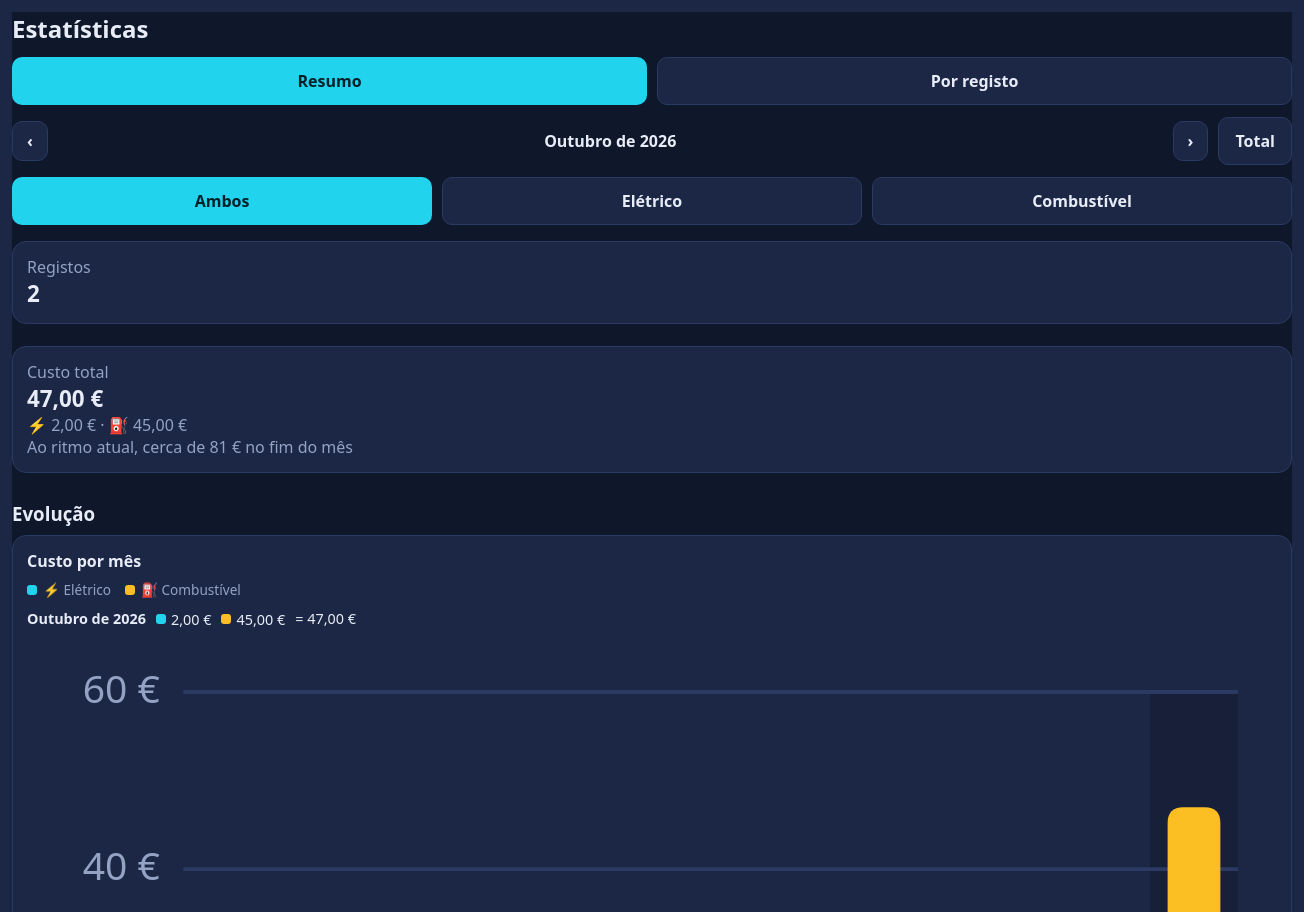
Test: StatsScreen › switches to the fuel-only view for the current period
Click the button "Combustível": [1082, 201] box [872,177,1292,225]
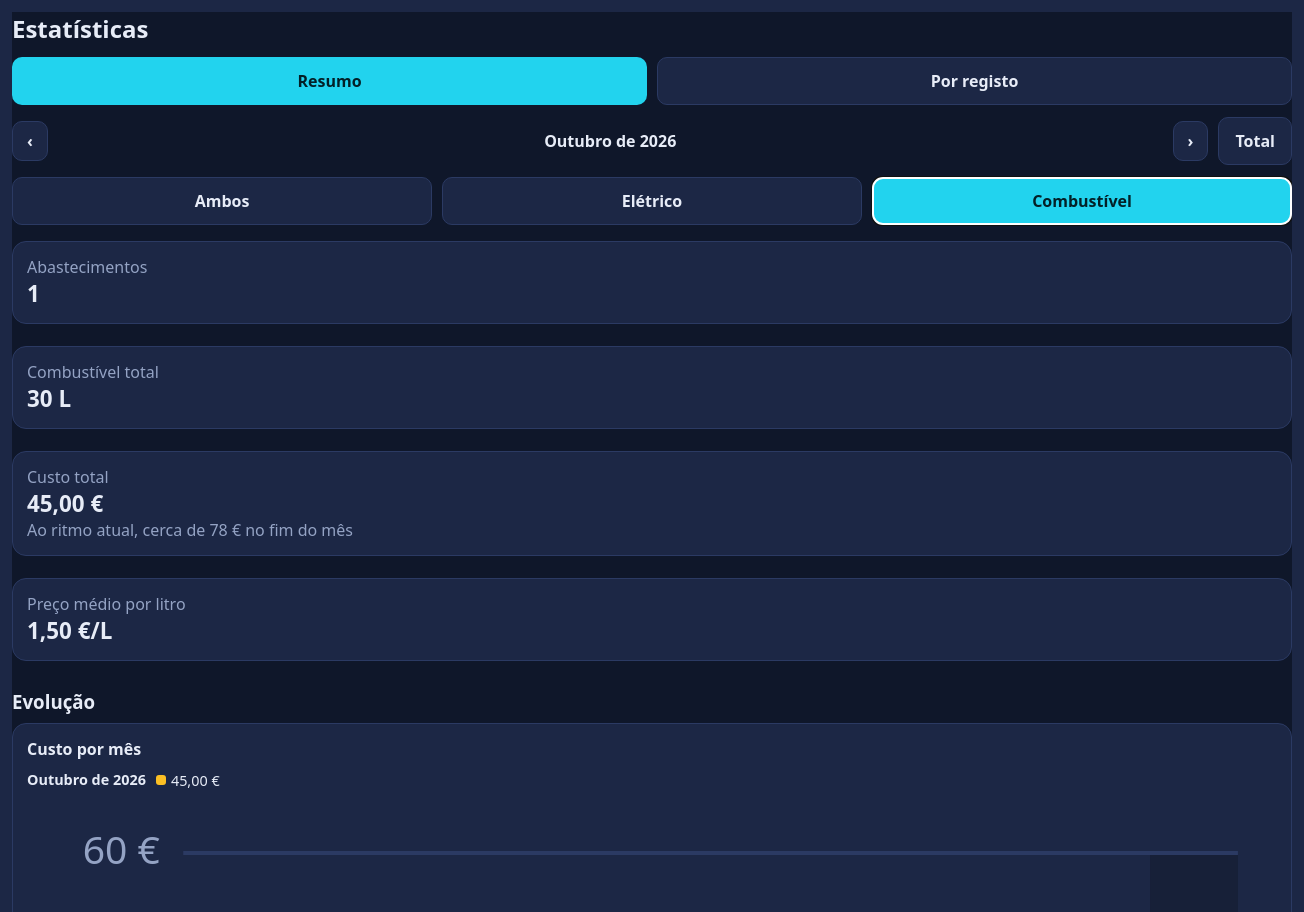
Expected: the text "30 L" is shown, [27,383,71,414]
